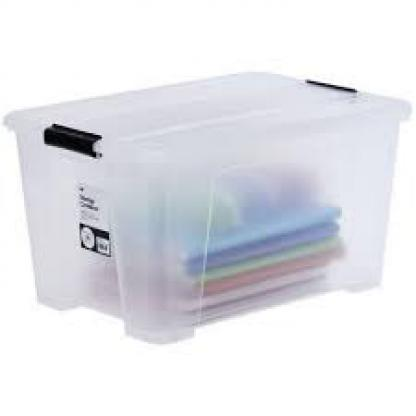plastic_box: (4, 53, 414, 348)
